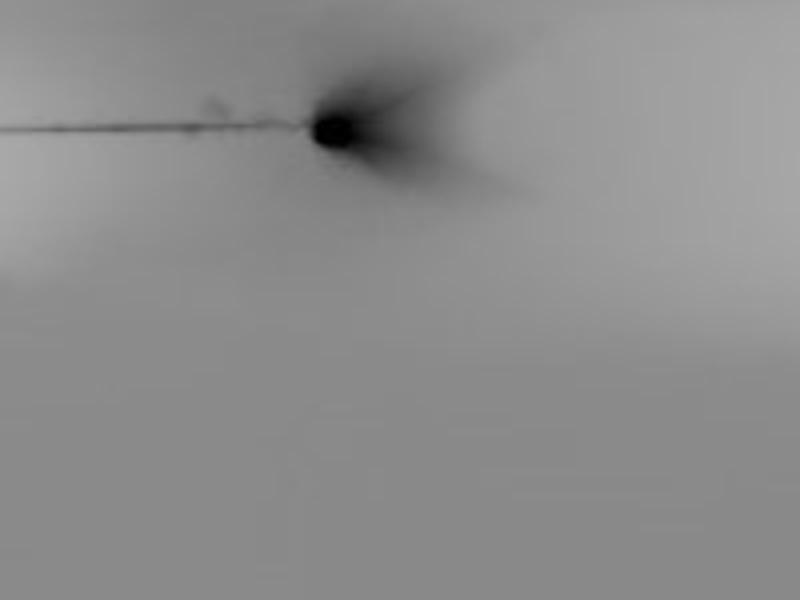defect: (311, 110, 358, 151)
